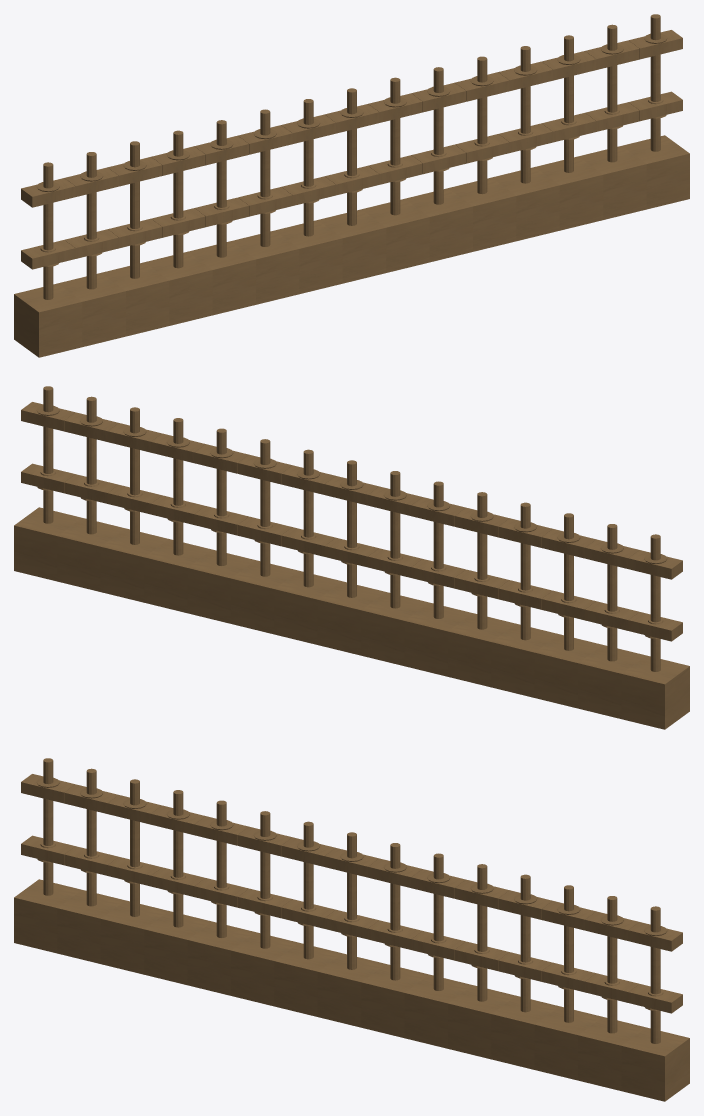
Rendered from Railingx15.glb.
The picture shows the model from 3 angles, top to bottom: view 1: azimuth 30°, elevation 25°; view 2: azimuth 150°, elevation 25°; view 3: azimuth 330°, elevation 25°; orthographic projection.
Parts seen in each view (by area): view 1: Railingx15; view 2: Railingx15; view 3: Railingx15.
Boxes of the visible parts, x1=… form: Railingx15: x1=14, y1=14, x2=689, y2=357; Railingx15: x1=14, y1=386, x2=689, y2=729; Railingx15: x1=14, y1=758, x2=689, y2=1101.
Bounding box in the file's own units: 30 × 7.88 × 2.
1 material, 1 textured.
